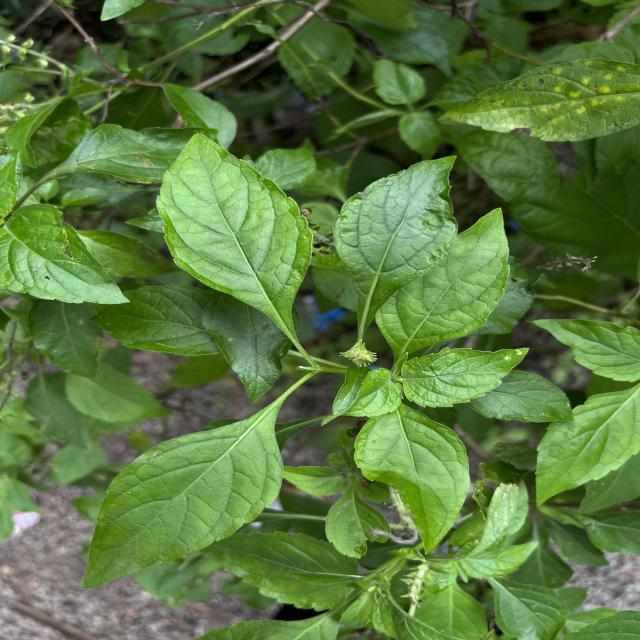Ocimum gratissimum: (76, 380, 288, 601), (152, 128, 318, 366), (330, 151, 460, 343), (368, 202, 516, 361), (351, 407, 476, 558), (436, 54, 640, 144), (0, 196, 137, 308), (531, 379, 640, 511), (400, 344, 536, 412), (527, 307, 640, 384)
